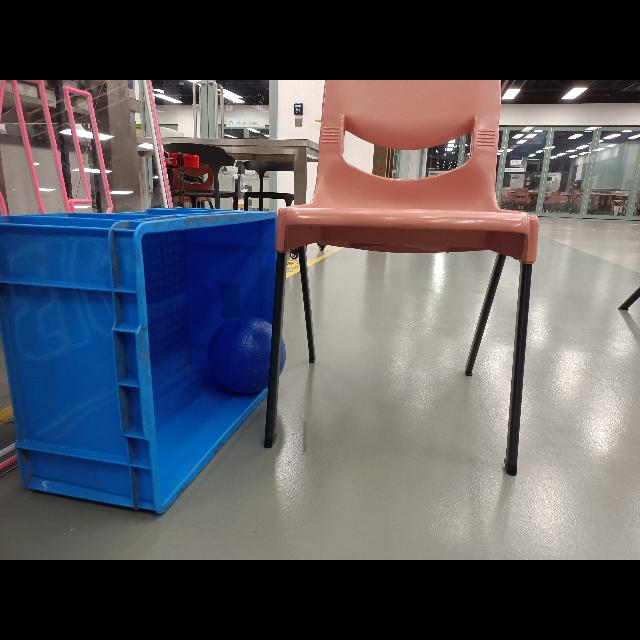B: (208, 316, 286, 396)
